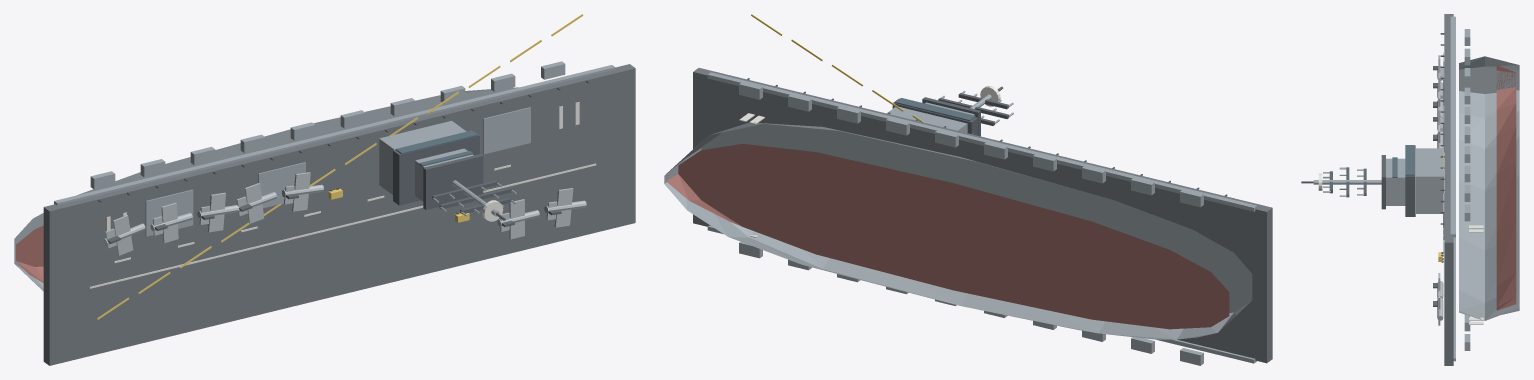
Rendered from portaerei_medio_web.glb.
The picture shows the model from 3 angles, left to right: view 1: azimuth 30°, elevation 25°; view 2: azimuth 150°, elevation 25°; view 3: azimuth 270°, elevation 25°; orthographic projection. The views are drawn at different scales.
Visible parts, largest first — view 1: Flight deck slab, Main hull, Deck edge lip 1, Island roof, Island bridge deck, Island lower block, Elevator panel 3.5, Runway center stripe, Lower red hull, Elevator panel -3.7, Elevator panel -1.3, Island upper bridge (+8 smaller); view 2: Lower red hull, Main hull, Flight deck slab, Deck edge lip 1, Island lower block, Deck edge lip -1, Bridge windows; view 3: Main hull, Lower red hull, Flight deck slab, Island lower block, Deck edge lip 1, Island upper bridge, Island bridge deck, Deck edge lip -1, Bridge windows, Main mast, Island roof.
Part boxes in pixels (x1,y1,x2,y2): Flight deck slab: [43, 64, 635, 365]; Main hull: [14, 87, 518, 291]; Deck edge lip 1: [54, 65, 615, 205]; Island roof: [423, 154, 483, 209]; Island bridge deck: [393, 131, 479, 205]; Island lower block: [379, 120, 466, 194]; Elevator panel 3.5: [483, 107, 530, 154]; Runway center stripe: [89, 163, 596, 288]; Lower red hull: [16, 225, 43, 282]; Elevator panel -3.7: [145, 189, 193, 236]; Elevator panel -1.3: [258, 162, 305, 208]; Island upper bridge: [415, 148, 473, 201]; Lower red hull: [666, 144, 1229, 329]; Main hull: [664, 122, 1252, 339]; Flight deck slab: [693, 68, 1272, 363]; Deck edge lip 1: [707, 72, 1257, 211]; Island lower block: [887, 107, 967, 132]; Deck edge lip -1: [707, 225, 1256, 363]; Bridge windows: [895, 98, 975, 121]; Main hull: [1459, 56, 1519, 320]; Lower red hull: [1496, 65, 1516, 310]; Flight deck slab: [1444, 14, 1453, 365]; Island lower block: [1416, 148, 1443, 213]; Deck edge lip 1: [1450, 16, 1455, 237]; Island upper bridge: [1386, 158, 1405, 205]; Island bridge deck: [1405, 145, 1415, 216]; Deck edge lip -1: [1453, 237, 1455, 361]; Bridge windows: [1405, 145, 1414, 175]; Main mast: [1313, 180, 1381, 184]; Island roof: [1381, 155, 1385, 209].
Bounding box in the file's own units: 12.5 × 4.71 × 5.04.
